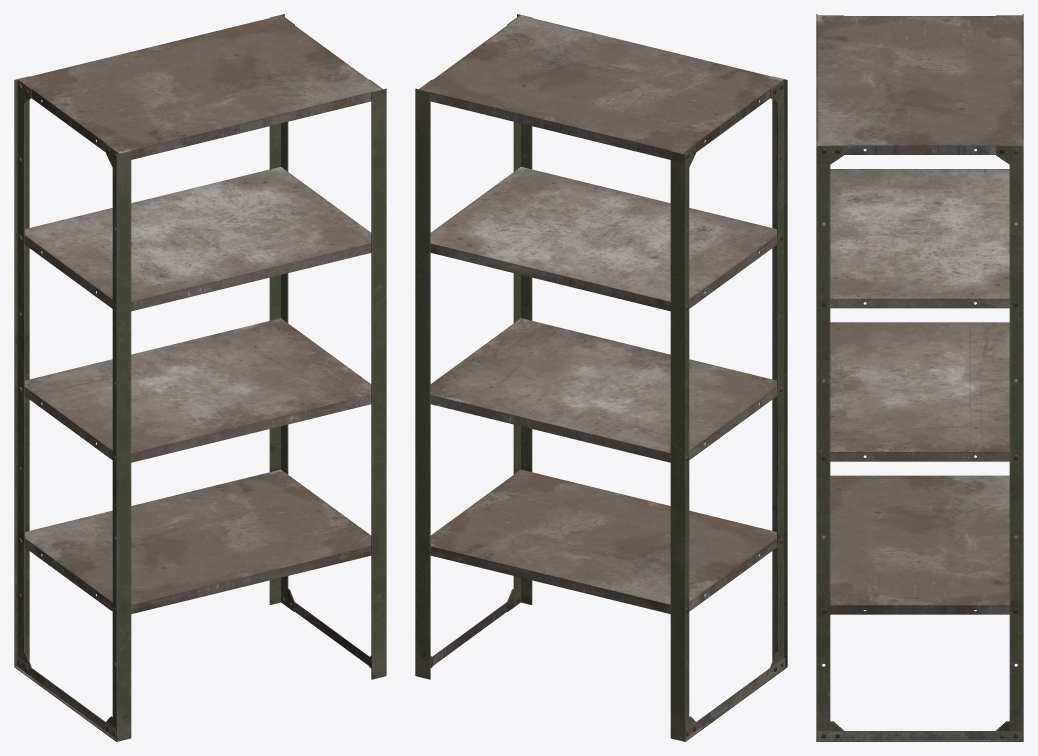
The model's file is worn_metal_rack.glb.
The picture shows the model from 3 angles, left to right: view 1: azimuth 30°, elevation 25°; view 2: azimuth 150°, elevation 25°; view 3: azimuth 270°, elevation 25°; orthographic projection.
Parts seen in each view (by area): view 1: worn_metal_rack; view 2: worn_metal_rack; view 3: worn_metal_rack.
Boxes of the visible parts, left/top/right/bottom form: worn_metal_rack: left=14, top=14, right=386, bottom=741; worn_metal_rack: left=415, top=14, right=787, bottom=741; worn_metal_rack: left=816, top=14, right=1023, bottom=741.
Bounding box in the file's own units: 0.9153 × 1.9 × 0.6001.
1 material, 1 textured.
